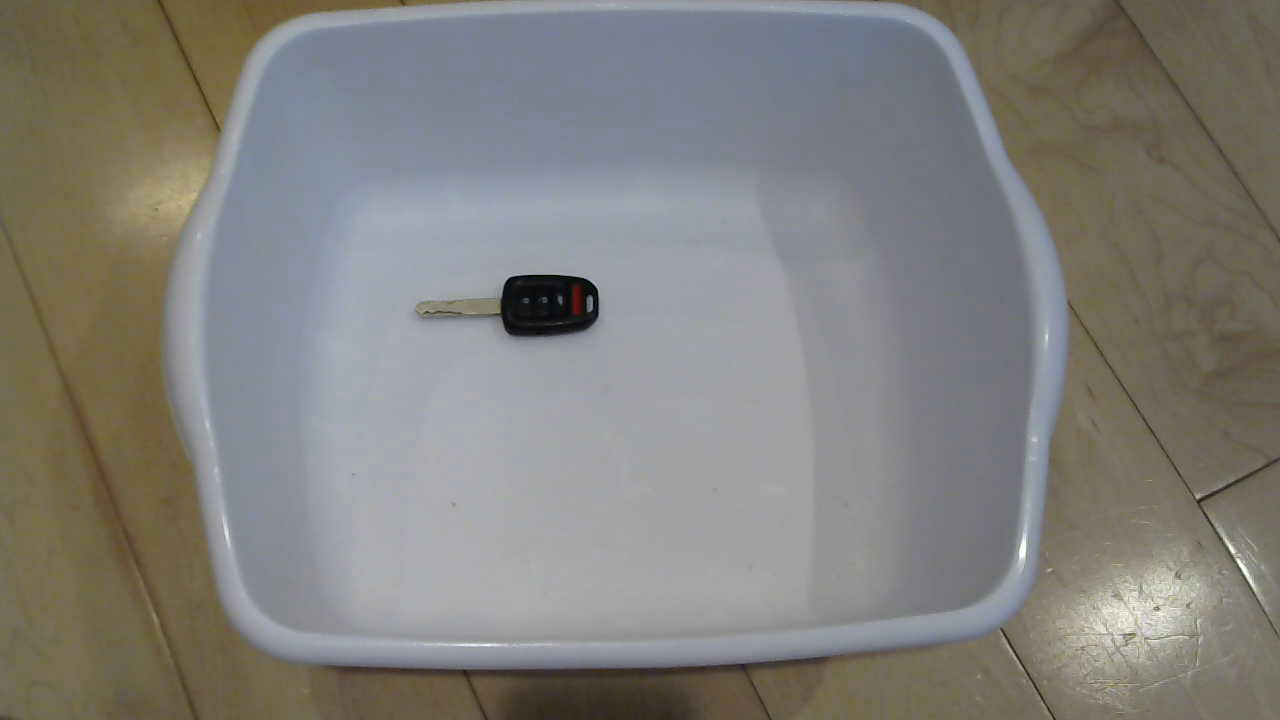key: (398, 269, 613, 358)
